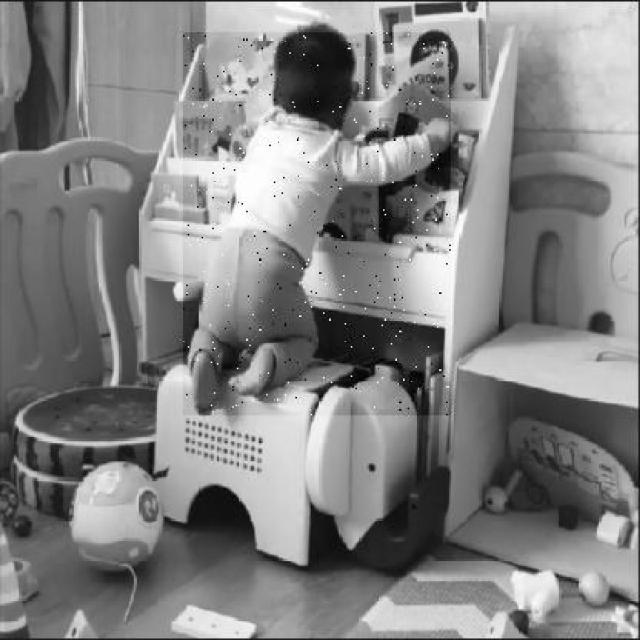child: (183, 33, 451, 416)
